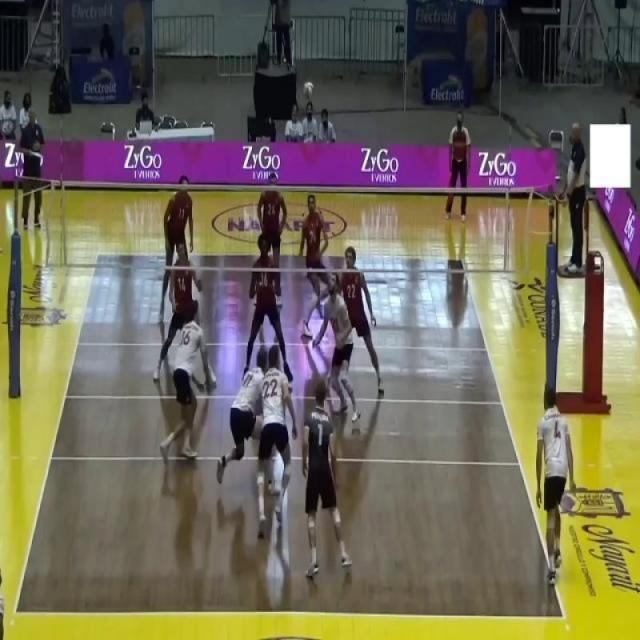volleyball: (303, 80, 314, 99)
